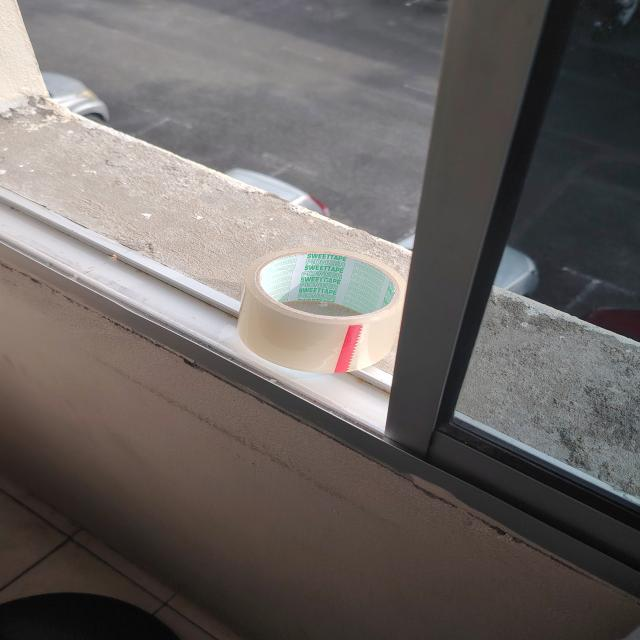tape: (238, 248, 406, 373)
